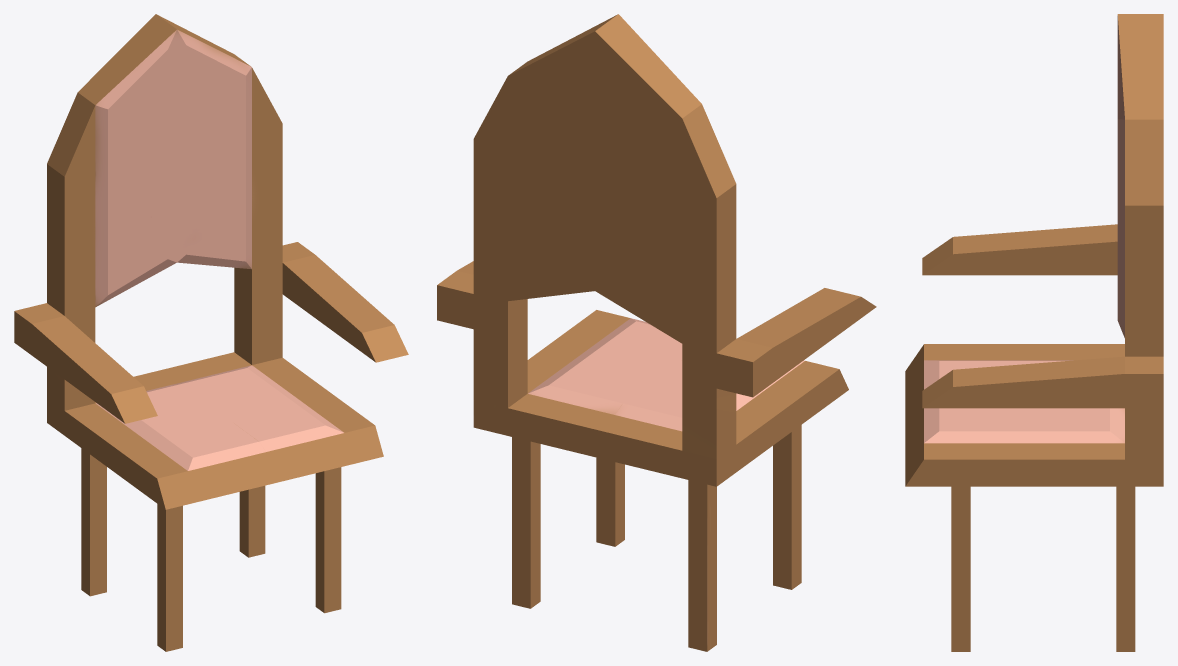
Rendered from KitchenChair_MOD.fbx.
The picture shows the model from 3 angles, left to right: view 1: azimuth 30°, elevation 25°; view 2: azimuth 150°, elevation 25°; view 3: azimuth 270°, elevation 25°; orthographic projection. The views are drawn at different scales.
Visible parts, largest first — view 1: Cube; view 2: Cube; view 3: Cube.
Part boxes in pixels (x1,y1,x2,y2): Cube: [14, 14, 408, 651]; Cube: [437, 14, 876, 651]; Cube: [905, 14, 1163, 651].
Size of the model in its own units: 40.64 by 74.66 by 29.52.
